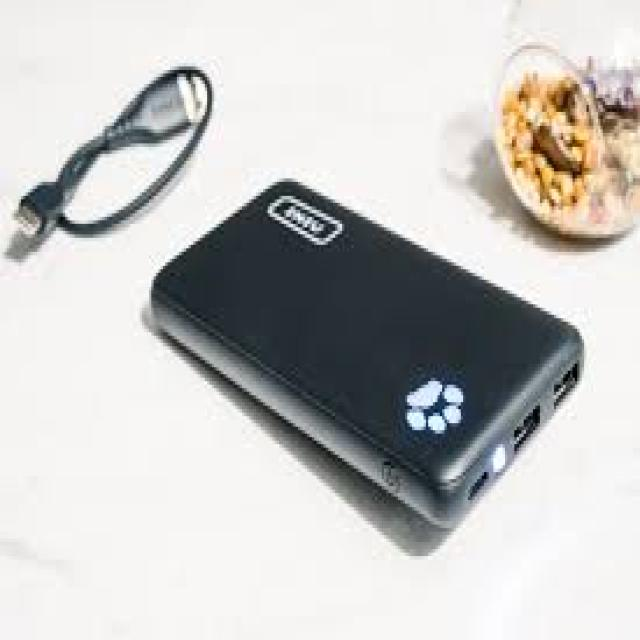power_bank: (142, 172, 589, 546)
